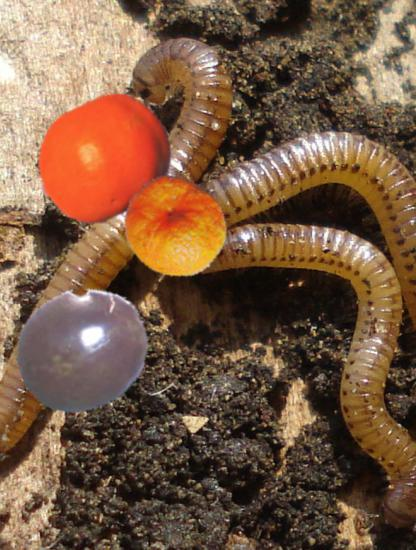Clementine: (35, 89, 174, 228)
Mandarine: (122, 173, 229, 280)
Passion: (17, 282, 152, 417)
